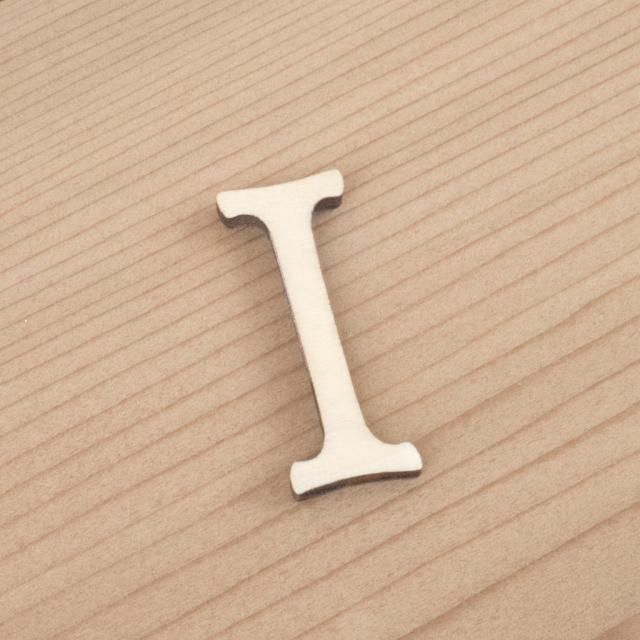I: (182, 149, 430, 518)
